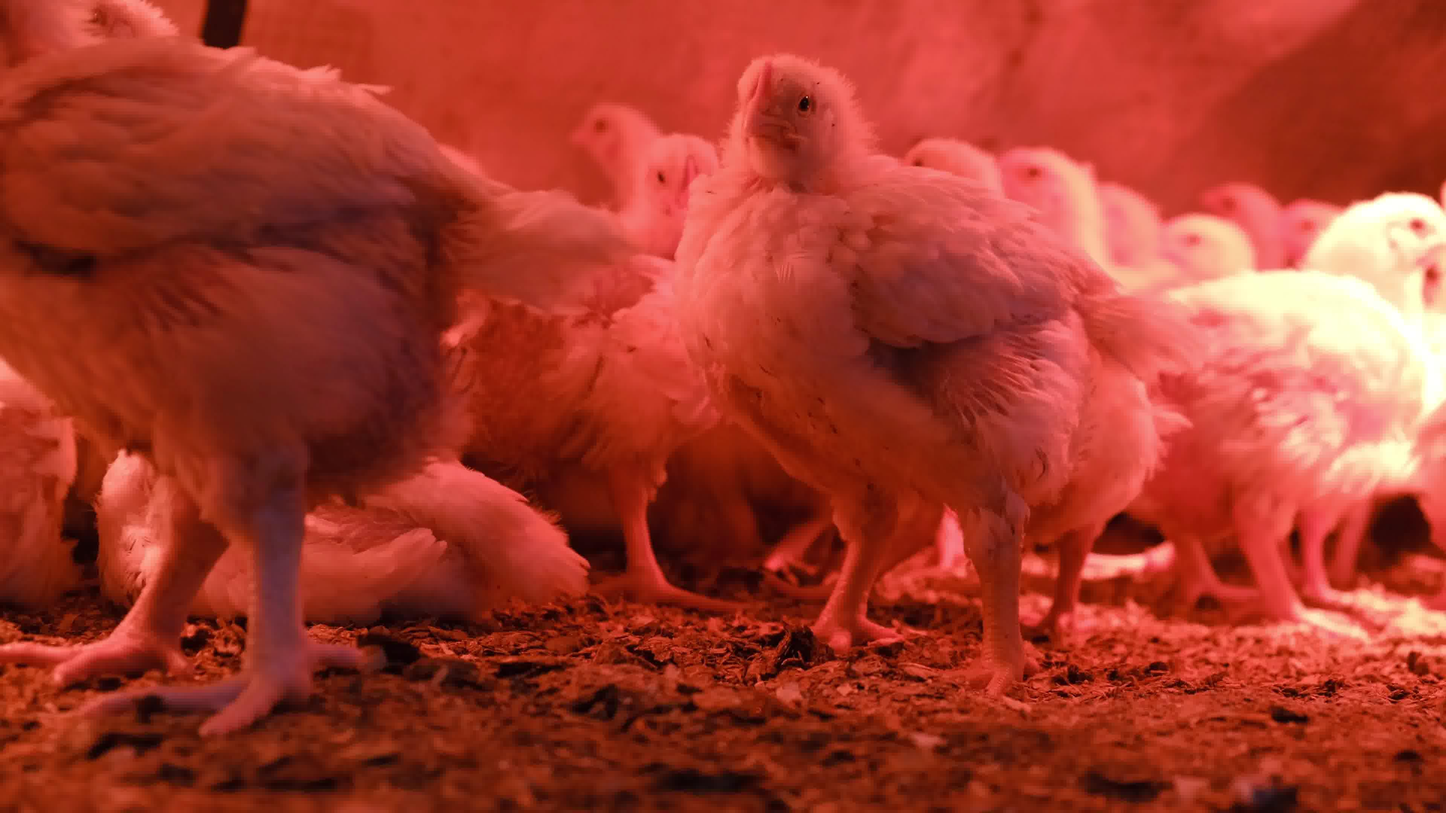AbNormal: (85, 393, 597, 623), (0, 349, 76, 604)
Normal: (0, 0, 653, 738), (682, 51, 1212, 702), (1112, 189, 1444, 640), (904, 130, 1180, 660), (448, 131, 727, 638), (998, 138, 1108, 280), (565, 102, 658, 214), (1210, 175, 1279, 292), (1104, 177, 1176, 289), (1170, 209, 1256, 292), (1283, 196, 1355, 264)
